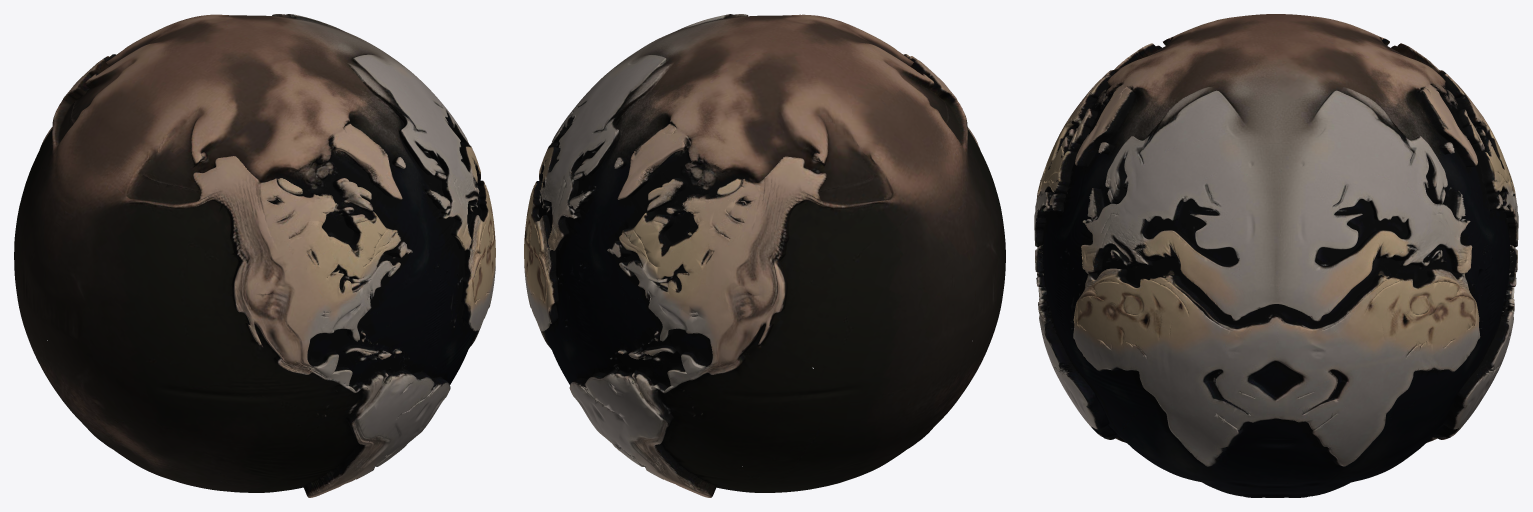
The picture shows the model from 3 angles, left to right: view 1: azimuth 30°, elevation 25°; view 2: azimuth 150°, elevation 25°; view 3: azimuth 270°, elevation 25°; orthographic projection.
Parts seen in each view (by area): view 1: tripo_node_2a5eb357-56cc-4524-ad86-bed2e376c2b0; view 2: tripo_node_2a5eb357-56cc-4524-ad86-bed2e376c2b0; view 3: tripo_node_2a5eb357-56cc-4524-ad86-bed2e376c2b0.
Part boxes in pixels (box(x1,y1,x2,y2)): tripo_node_2a5eb357-56cc-4524-ad86-bed2e376c2b0: box(14, 14, 495, 497); tripo_node_2a5eb357-56cc-4524-ad86-bed2e376c2b0: box(524, 14, 1005, 497); tripo_node_2a5eb357-56cc-4524-ad86-bed2e376c2b0: box(1034, 14, 1518, 497).
Bounding box in the file's own units: 0.9794 × 0.9755 × 0.9729.
Materials: 1 (1 with a texture image).
